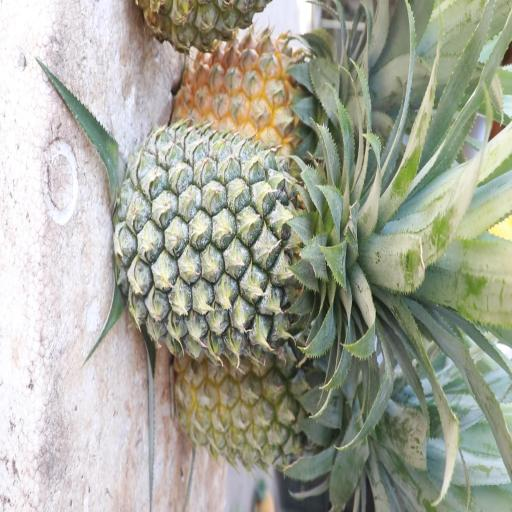------------------------------: (173, 335, 366, 471)
Pineapple - v8 v1: (186, 18, 343, 147)
